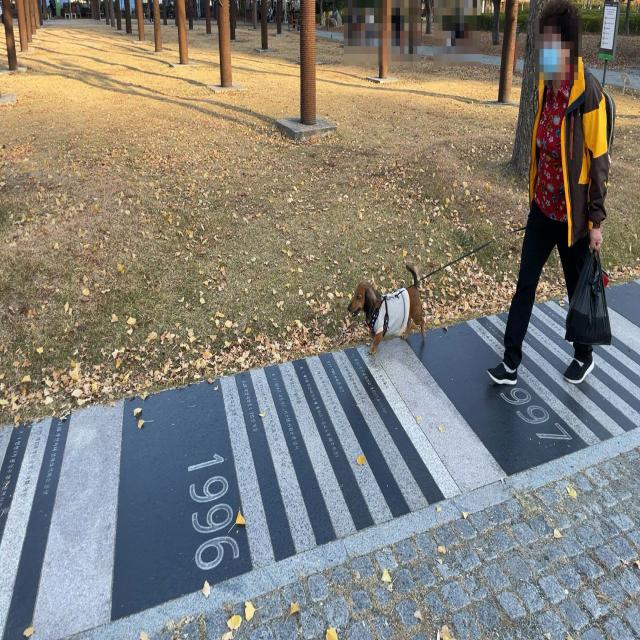Leashed_Dog: (346, 207, 545, 357)
